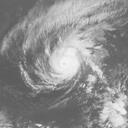cyclone: (50, 47, 80, 78)
